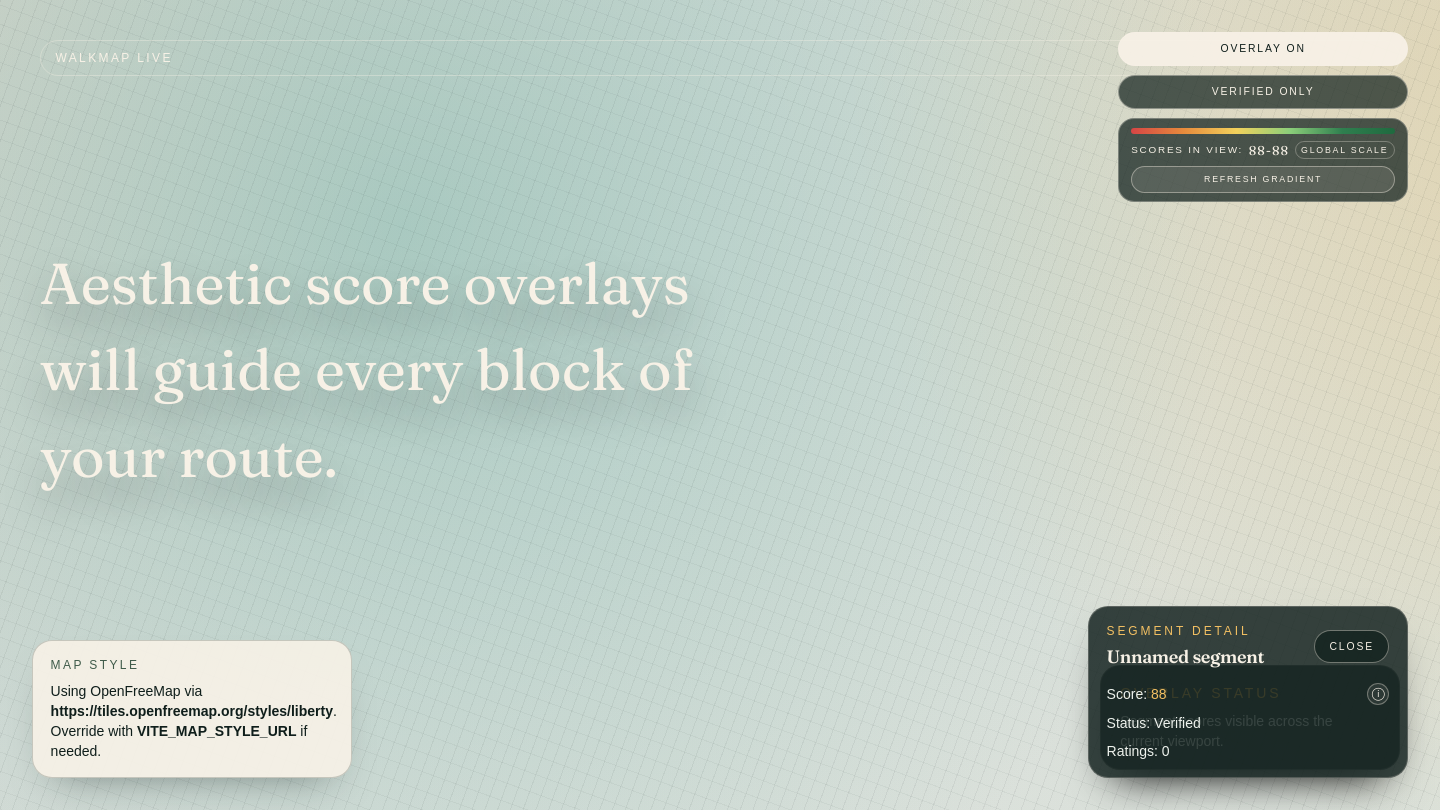
MapView score breakdown › shows AI factors and rating blend copy for zero ratings
Expected: the text "Segment Detail" is shown, [1107,623,1264,639]
Click the button named "score breakdown". click: (1378, 694)
box: [1367,683,1389,705]
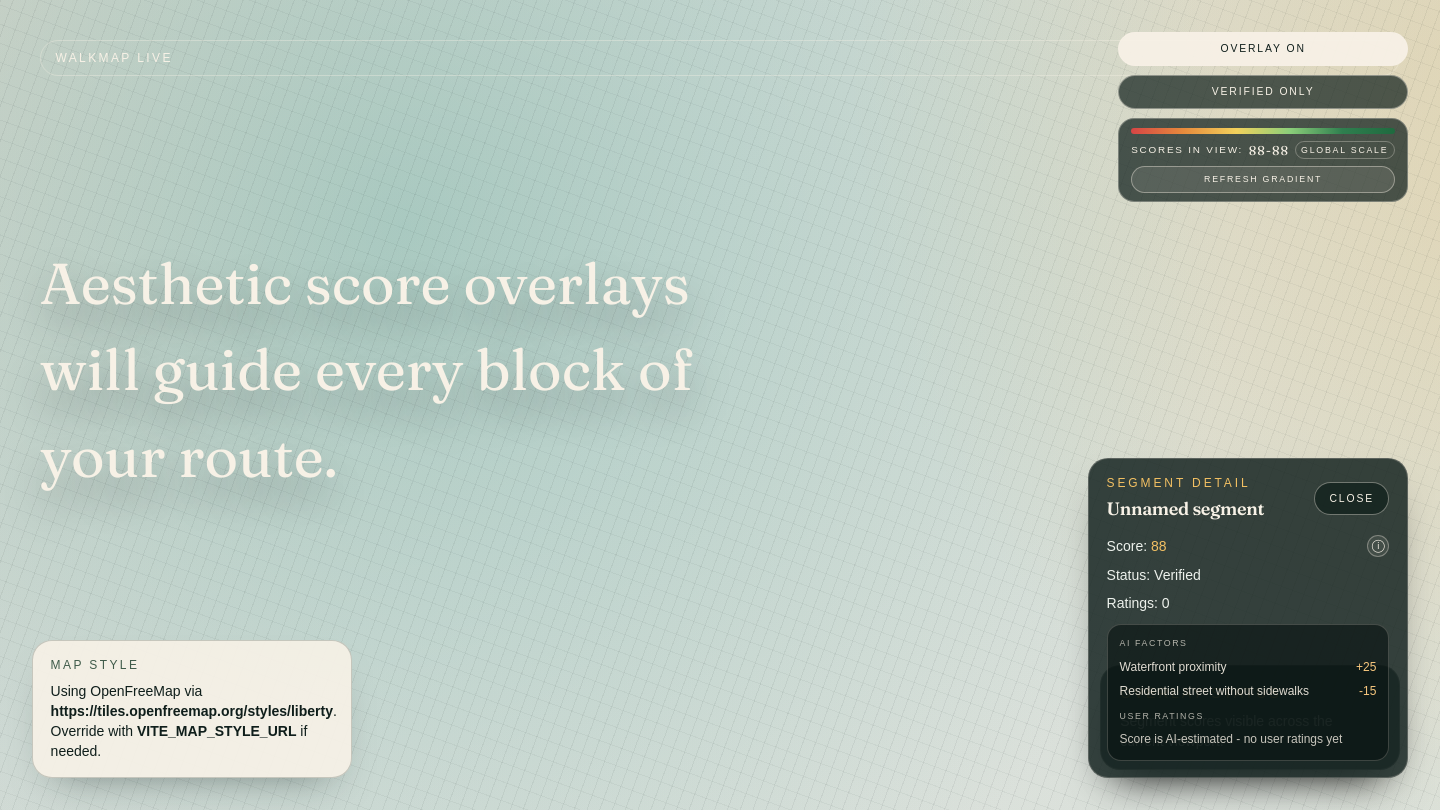
Expected: the text "AI factors" is shown, [1120,638,1188,648]
Expected: the text "Waterfront proximity" is shown, [1120,658,1226,676]
Expected: the text "+25" is shown, [1356,658,1376,676]
